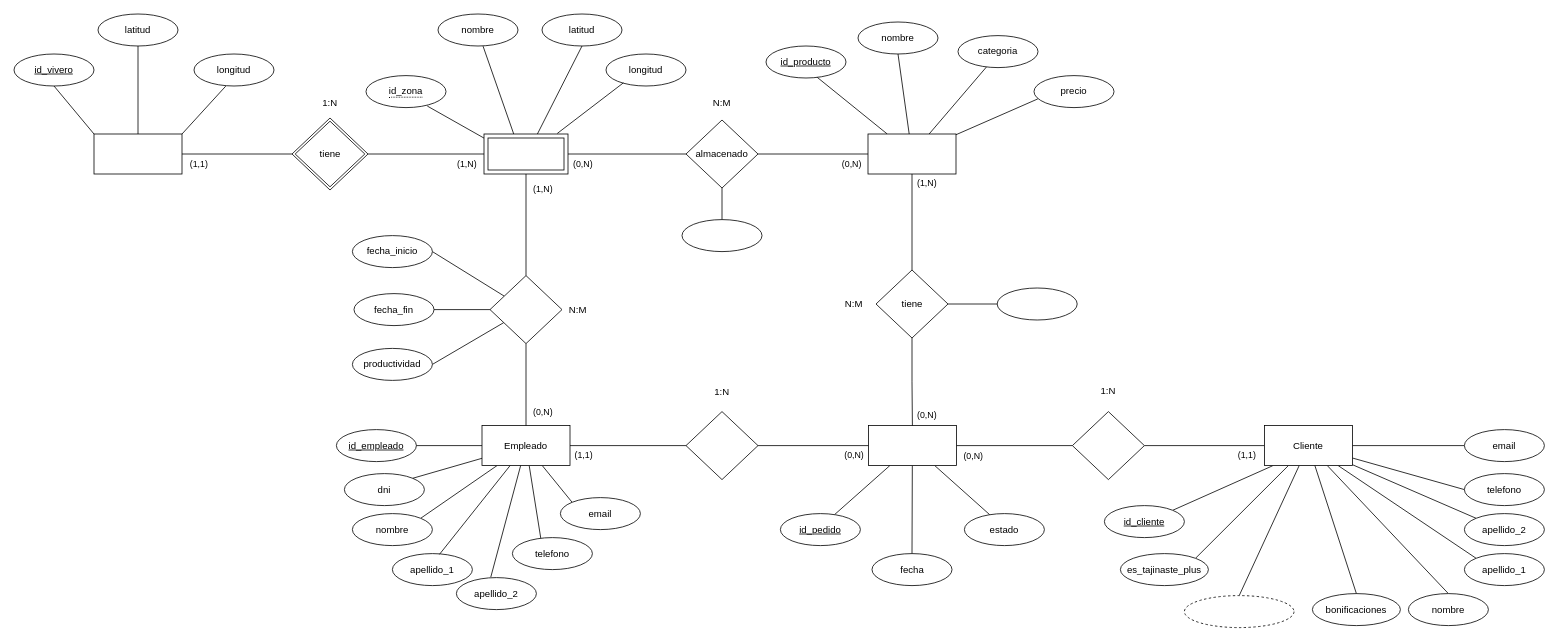
Image size: 1558x642. Some labels were removed from this diagram. Each missing label, with the centre of its shape:
asignado: (525,309)
cantidad: (1036,303)
gestiona: (721,445)
Pedido: (912,445)
pedidos_realizados: (1239,611)
Producto: (911,153)
realiza: (1108,445)
stock: (721,235)
Vivero: (137,153)
Zona: (525,153)
